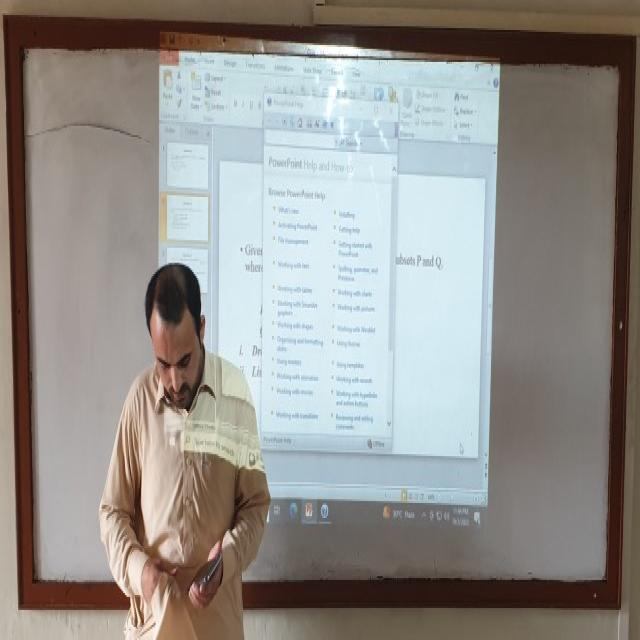Instructor: (110, 240, 250, 640)
Slide: (158, 31, 502, 537)
White-board: (13, 26, 626, 590)
